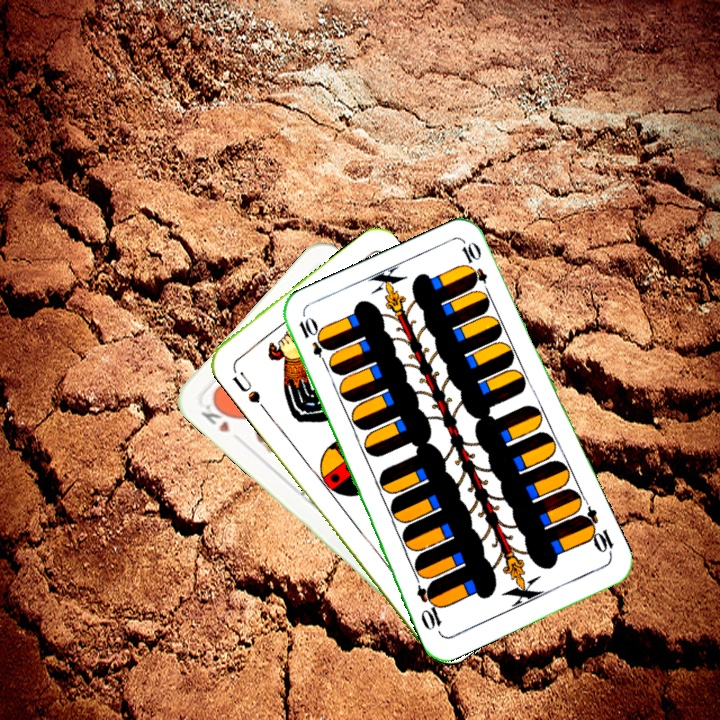E10: (575, 503, 617, 559), (294, 314, 332, 370)
HK: (196, 396, 236, 436)
SU: (228, 368, 269, 414)
